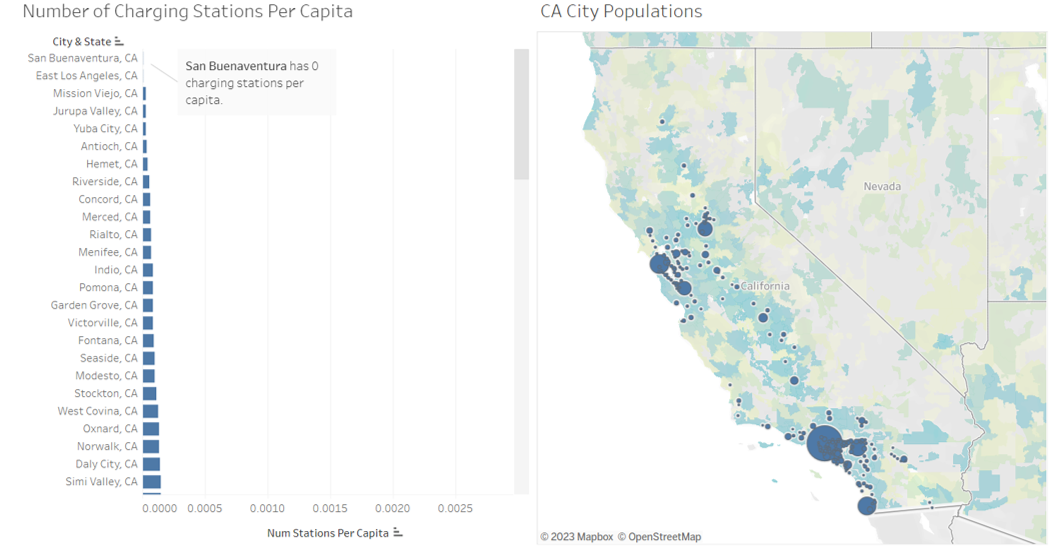

The dashboard page shown, as its layout file describes it:
{"tool":"tableau","page":{"name":"Which City to Invest In?","canvas":[1000,1000],"units":"permille","ordinal":1},"visuals":[{"type":"title","box":[5,8.8,990,46.5]},{"type":"worksheet","title":"Number of Charging Stations Per Capita","mark":"Automatic","rows":["Calculation_573083082899038208"],"cols":["Calculation_573083082901876737"],"box":[5,55.3,445.1,935.8]},{"type":"worksheet","title":"CA City Populations","mark":"Automatic","box":[450.1,55.3,445.1,935.8]},{"type":"legend","title":"CA City Populations","param":"[federated.0grlf7514wx0wx146b25i0dugied].[sum:Population:qk]","box":[895.2,55.3,99.8,183.6]},{"type":"filter","title":"Number of Charging Stations Per Capita","param":"[federated.0grlf7514wx0wx146b25i0dugied].[sum:Population:qk]","box":[895.2,238.9,99.8,76.3]}]}

Visuals, with their boxes on the dashboard's canvas, which has no fixed pixel size, in thousandths of its width and height (x1, y1, x2, y2). These are canvas units, not pixel positions in the 1052x553 screenshot, which may show the page scaled, cropped or inside an application window:
title: 5,9,995,55
"Number of Charging Stations Per Capita" worksheet: 5,55,450,991
"CA City Populations" worksheet: 450,55,895,991
"CA City Populations" legend: 895,55,995,239
"Number of Charging Stations Per Capita" filter: 895,239,995,315
